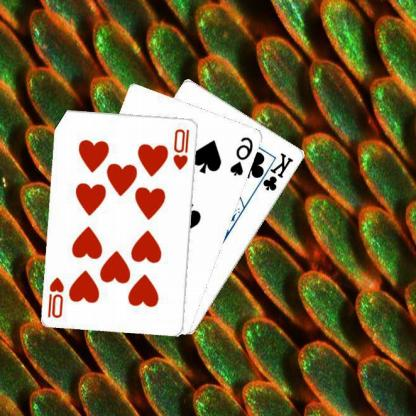10H: (46, 274, 68, 319), (172, 126, 193, 171)
6S: (230, 134, 257, 177)
KC: (254, 150, 297, 192)
